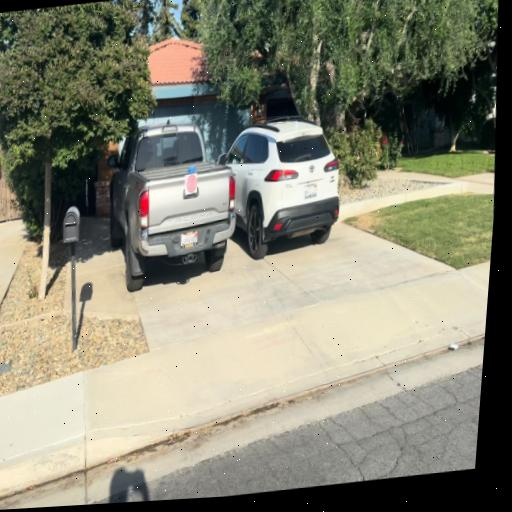bullseye: (186, 173, 197, 195)
